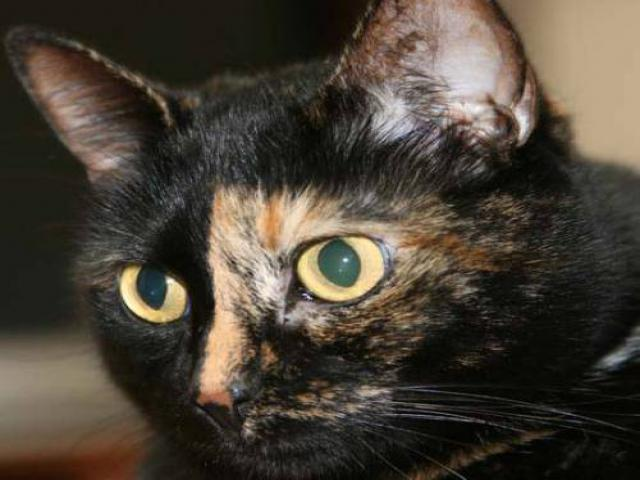cat: (30, 11, 632, 477)
